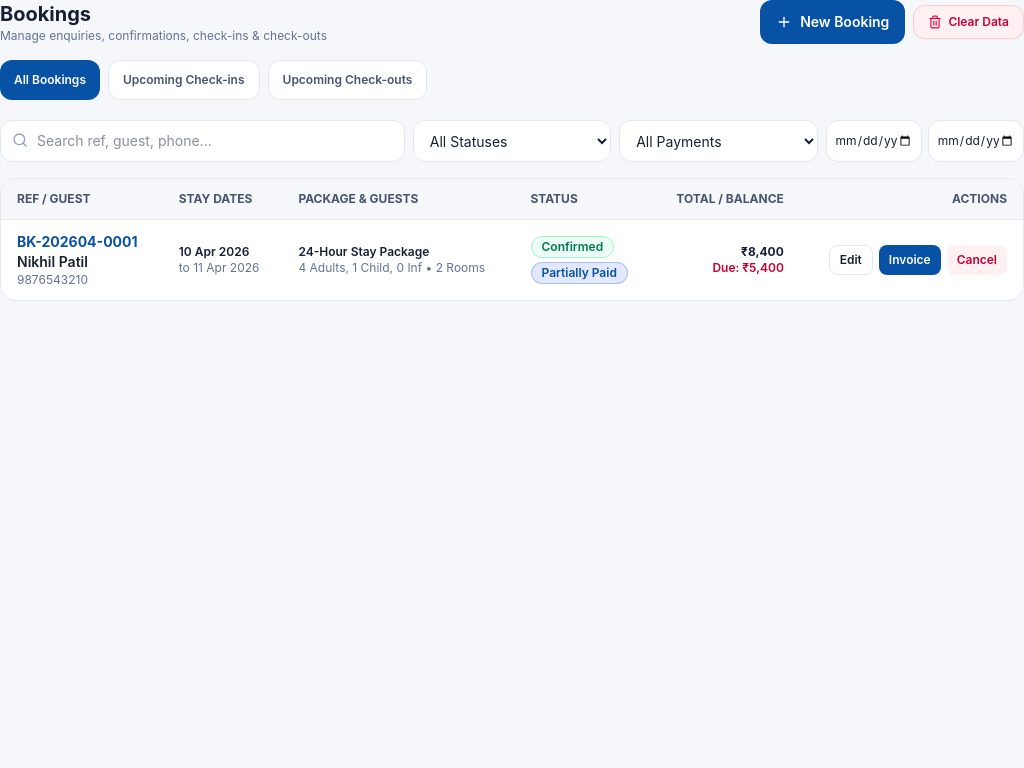
Test: Blueberry Farm & Resort Frontend Suite › supports bookings filtering, view switching, and creating a new booking
The width and height of the screenshot is (1024, 768).
Click the button "Upcoming Check-ins": (184, 80) [108, 60, 260, 100]
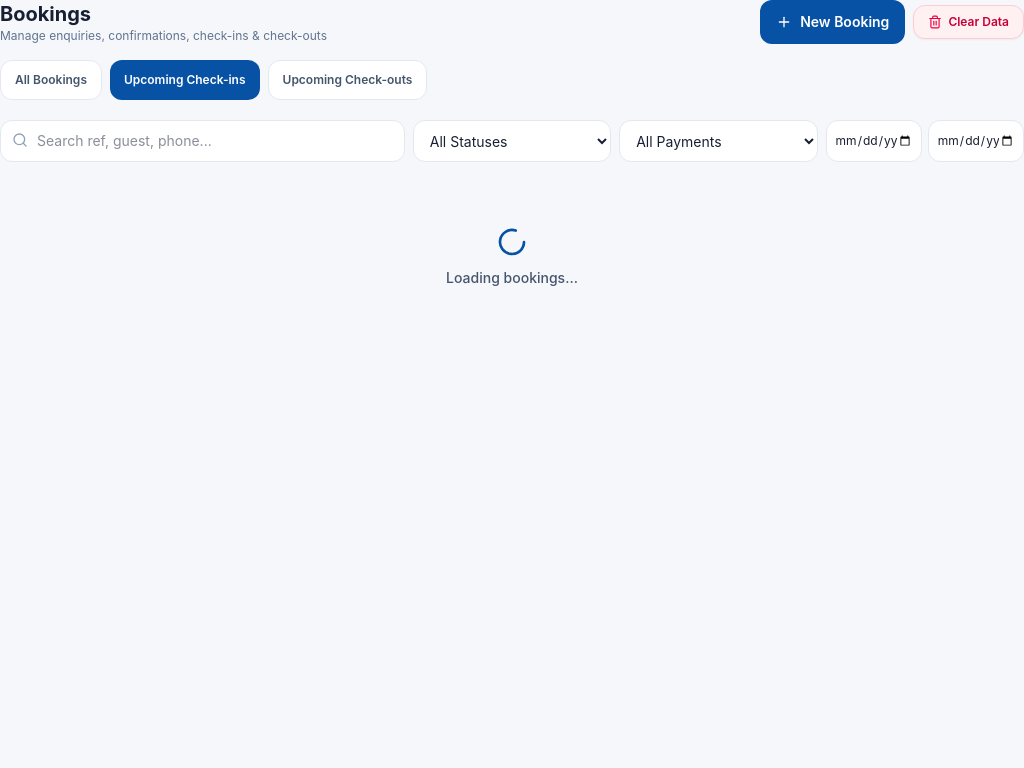
Click the button "New Booking": (833, 22) [760, 0, 905, 44]
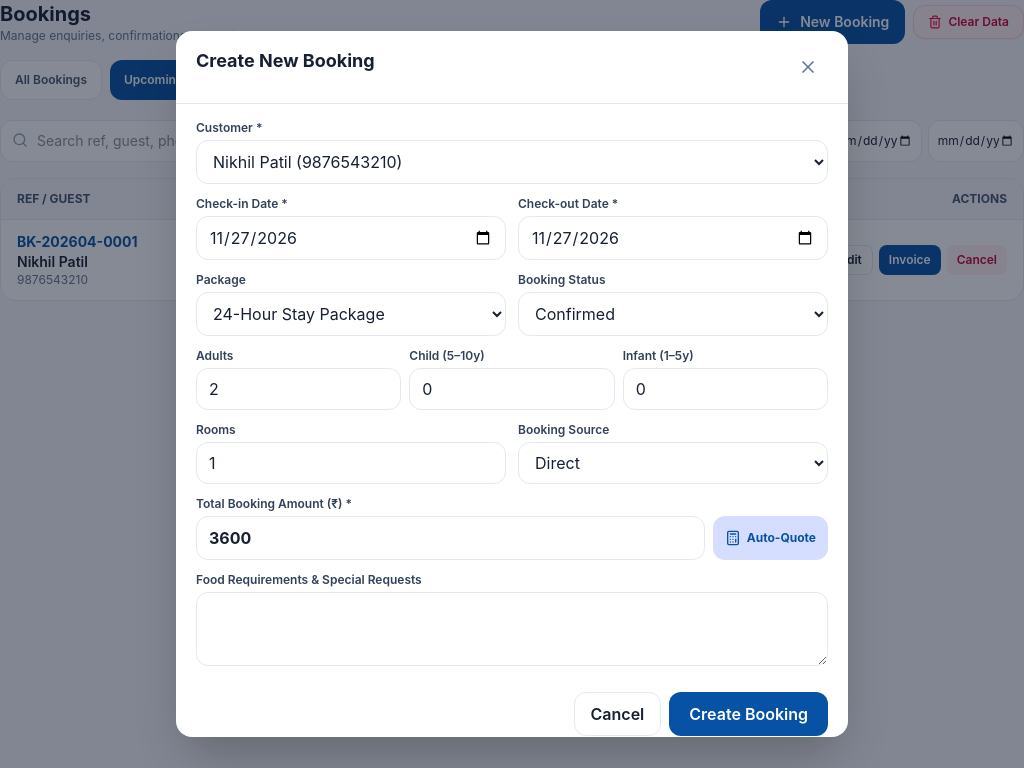
Expected: the heading "Create New Booking" is shown, [196, 47, 375, 75]
